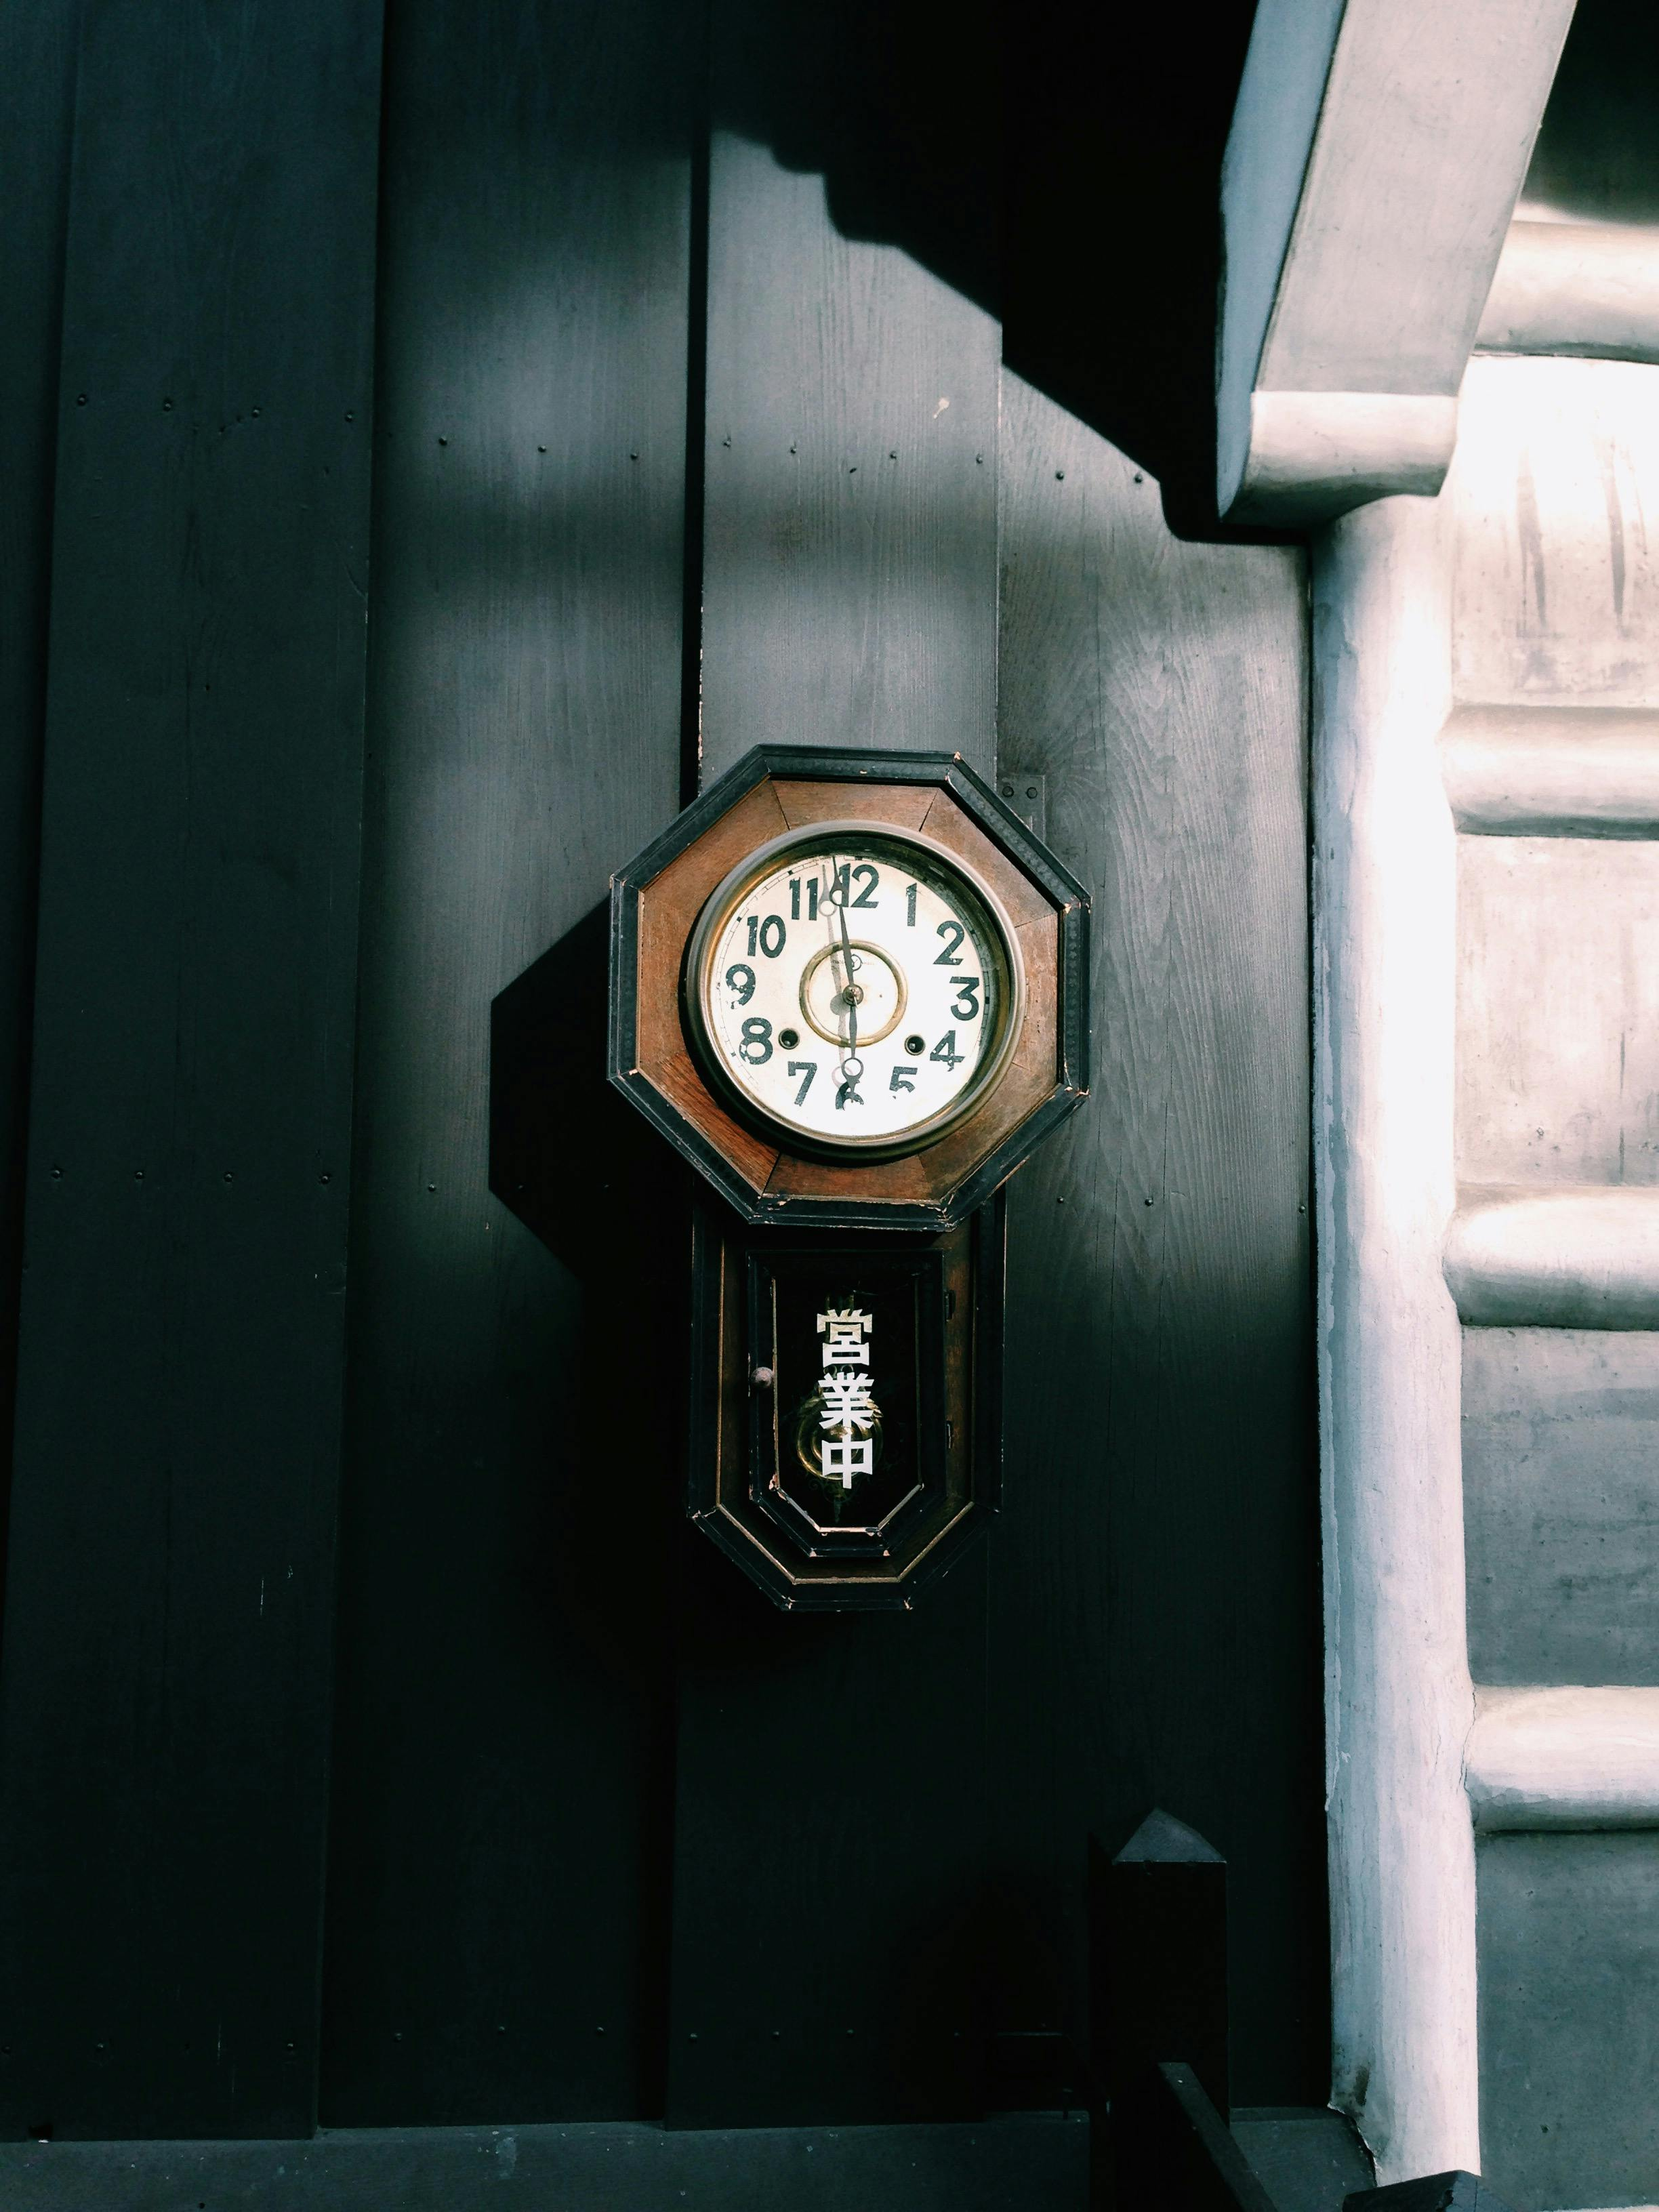clock: (558, 725, 1168, 1228)
